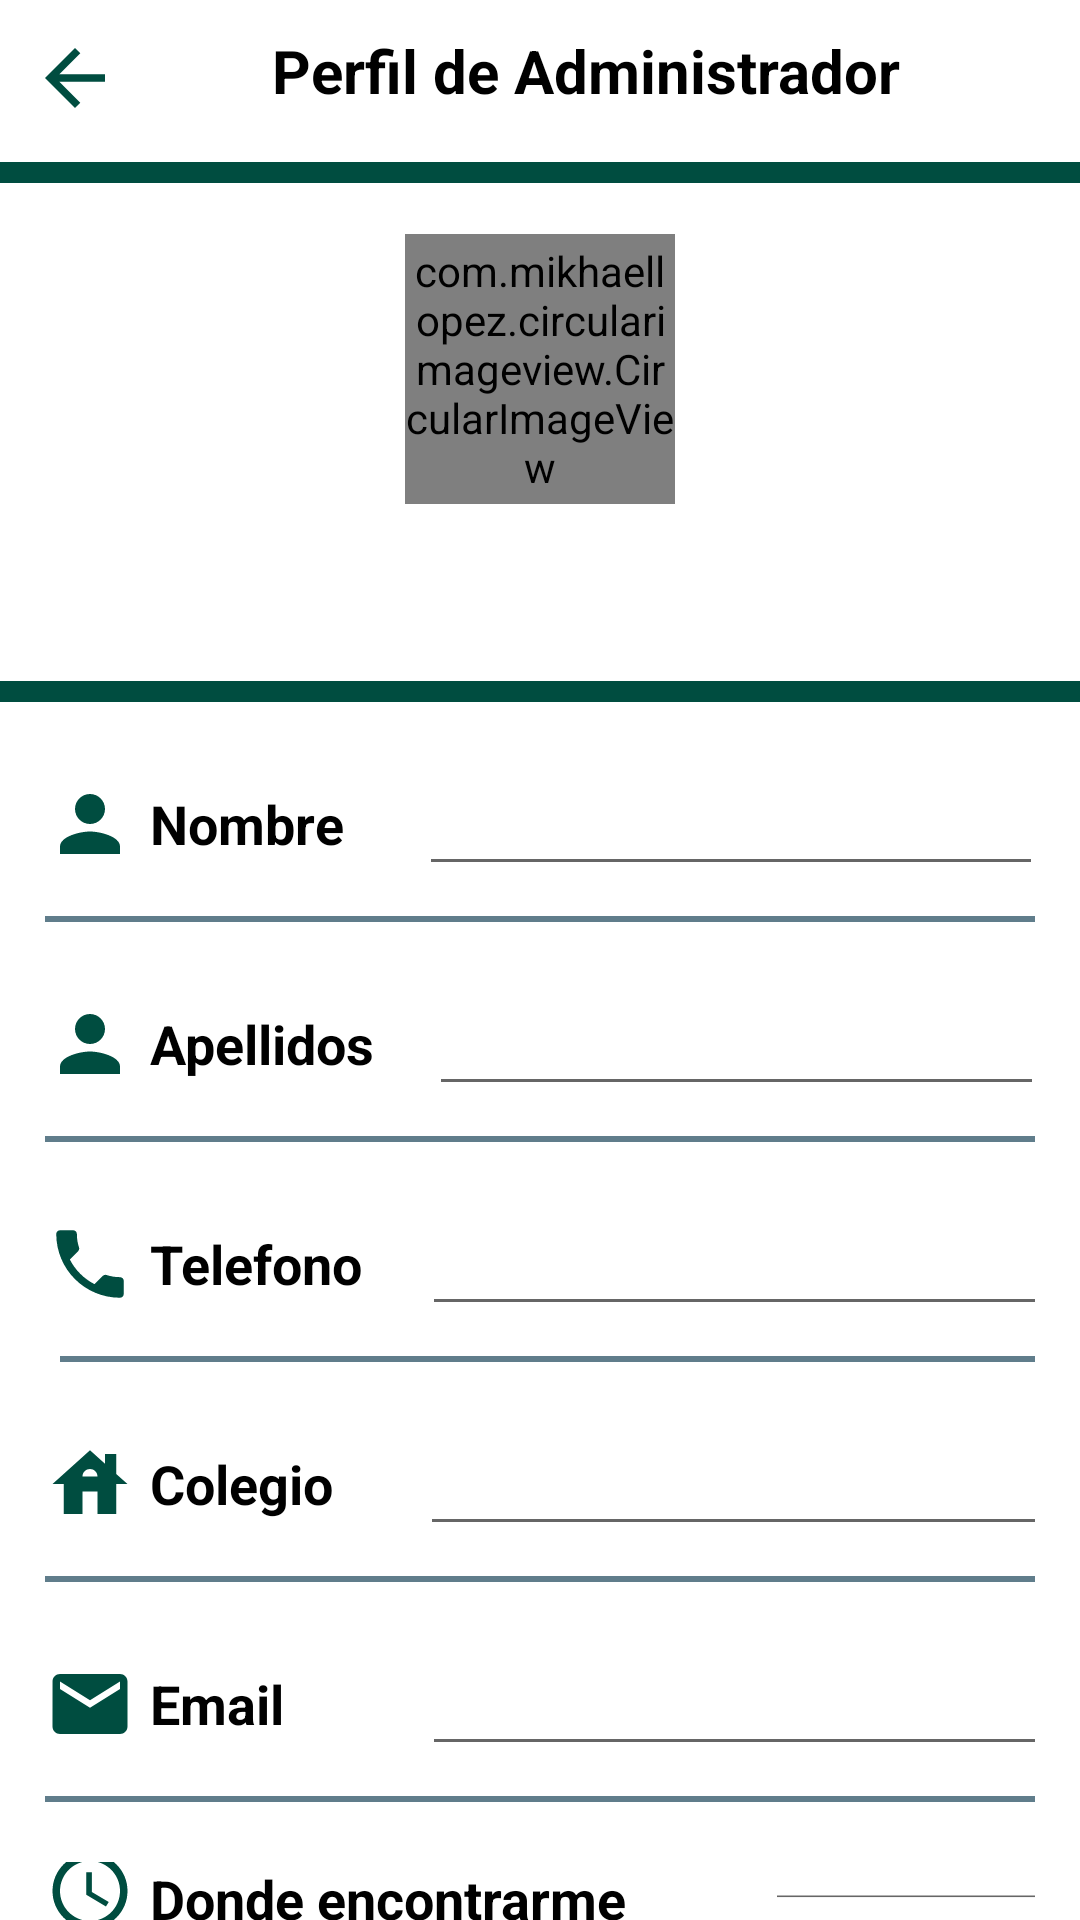

Where icons sit on this 1080 x 1920 app screen, as {"left": x1, "top": y1, "right": x2, "bottom": y2}:
arrow back: {"left": 45, "top": 48, "right": 105, "bottom": 108}
person: {"left": 60, "top": 794, "right": 120, "bottom": 854}, {"left": 60, "top": 1014, "right": 120, "bottom": 1074}
phone: {"left": 56, "top": 1230, "right": 124, "bottom": 1298}
